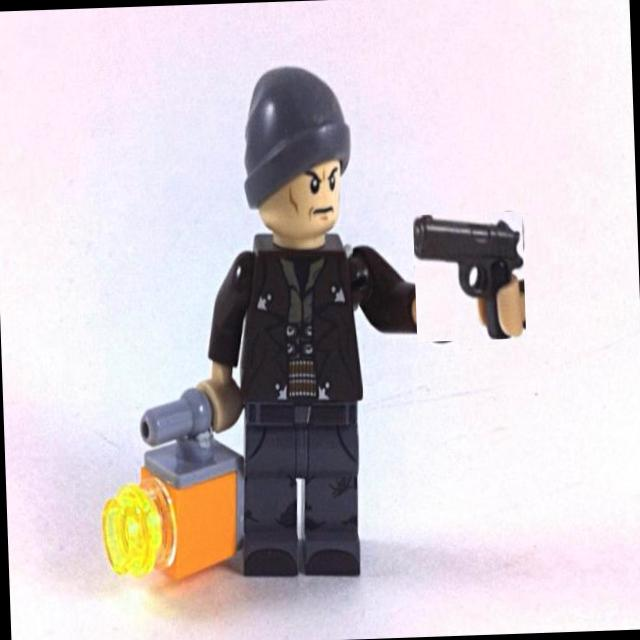Gun: (413, 215, 523, 339)
